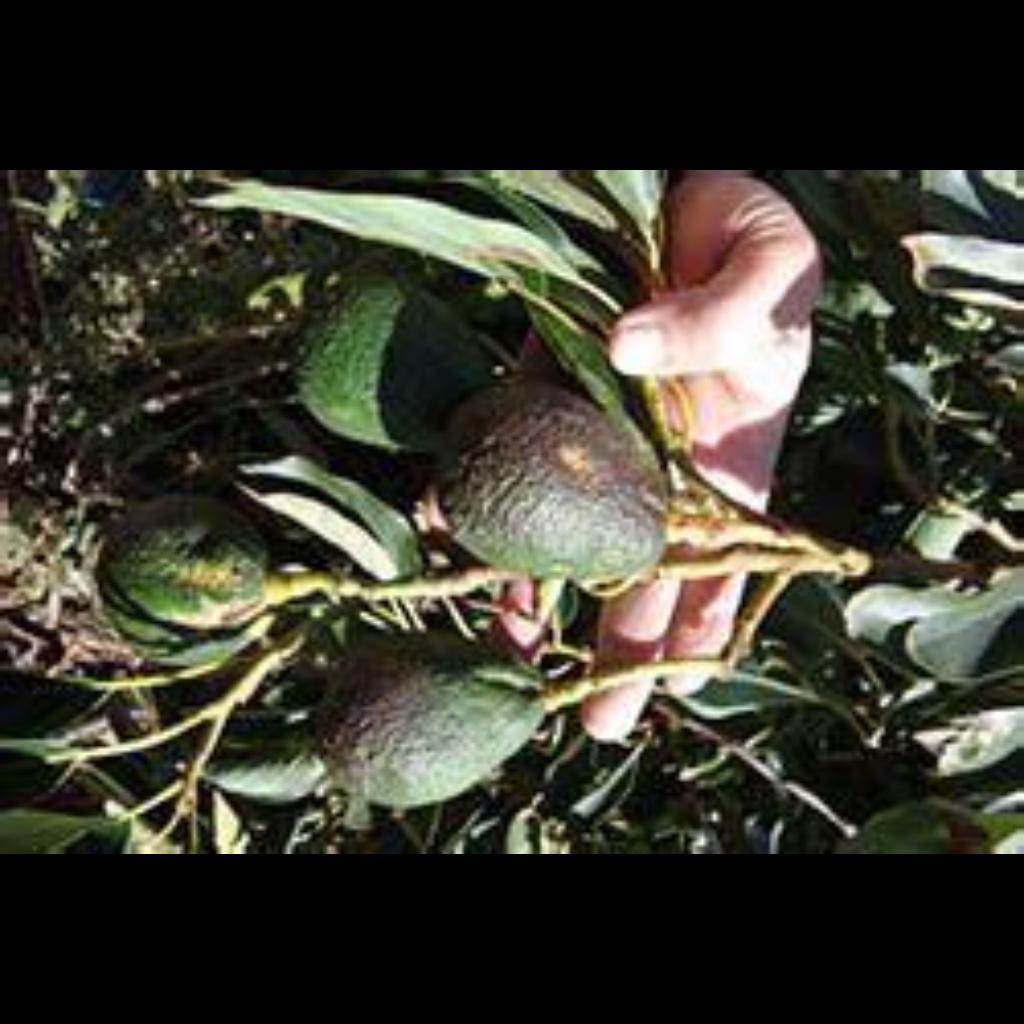sunblotch: (433, 375, 662, 592), (86, 494, 258, 658), (319, 654, 516, 796)
